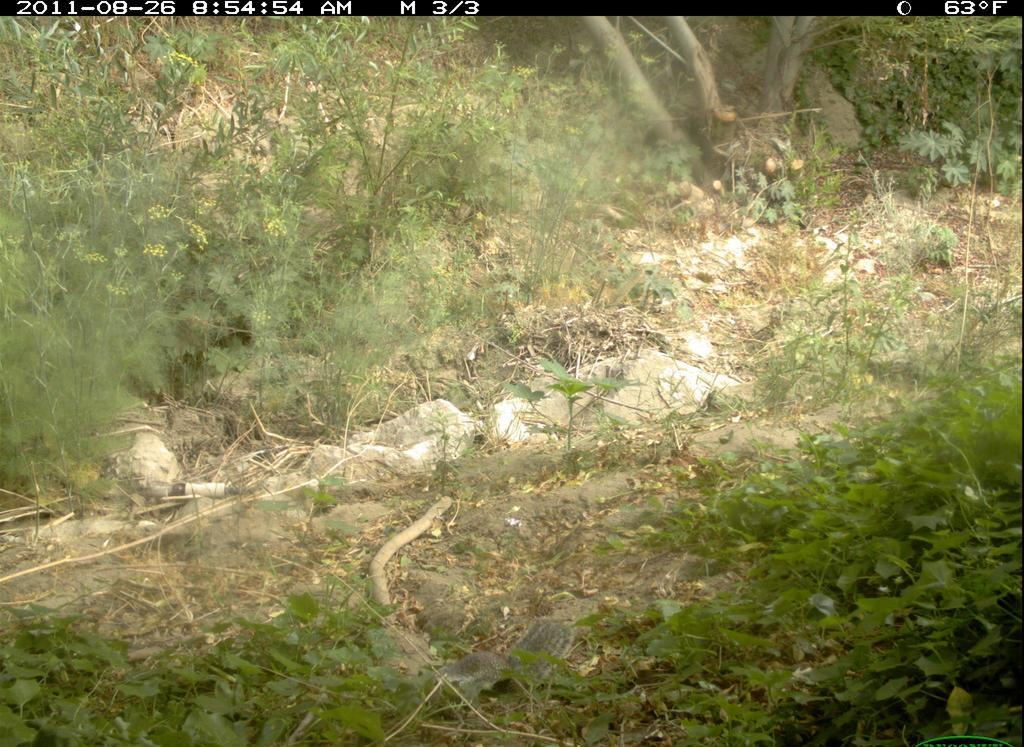squirrel: (410, 615, 578, 705)
